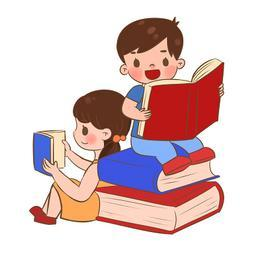book: (132, 54, 237, 146), (88, 176, 234, 239), (91, 144, 228, 197), (28, 126, 75, 178)
